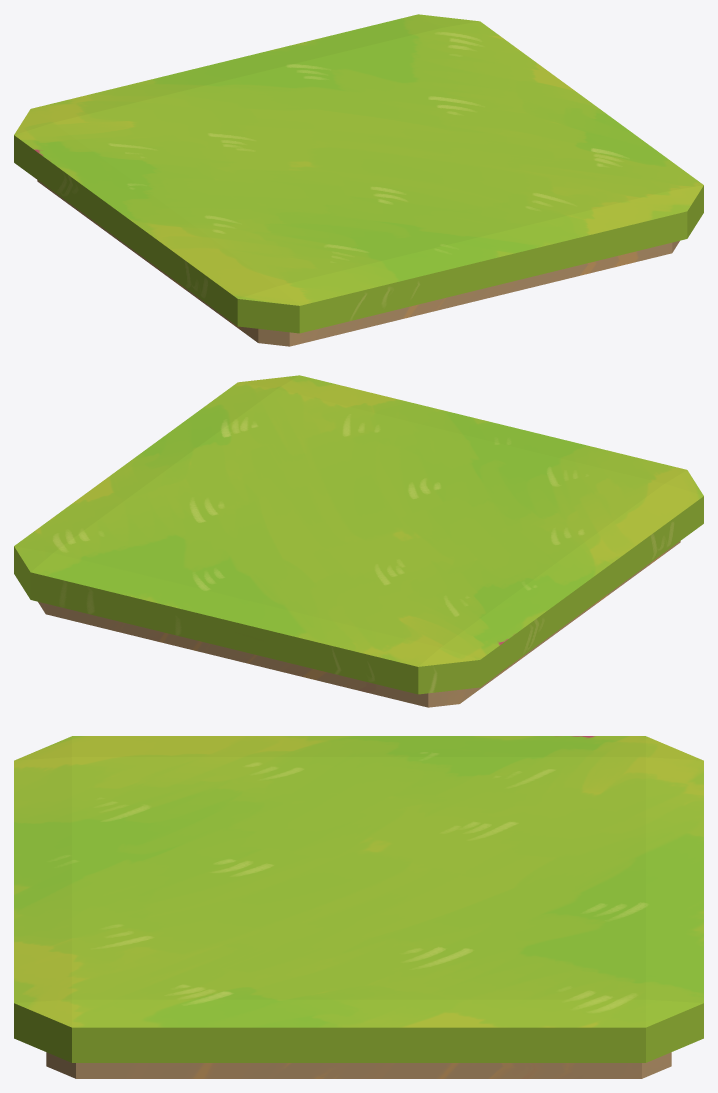
The model's file is ground_tile.fbx.
3 renders of one model, top to bottom at view 1: azimuth 30°, elevation 25°; view 2: azimuth 150°, elevation 25°; view 3: azimuth 270°, elevation 25°, orthographic. The views are drawn at different scales.
Visible parts, largest first — view 1: Cube.001, Cube; view 2: Cube.001, Cube; view 3: Cube.001, Cube.
Boxes of the visible parts, x1,y1,x2,y2 form: Cube.001: (14,14,703,333); Cube: (37,180,679,346); Cube.001: (14,375,703,694); Cube: (38,541,680,707); Cube.001: (14,736,703,1062); Cube: (46,1052,671,1078).
Size of the model in its own units: 221 by 25.1 by 221.
Materials: 2 (2 with a texture image).
